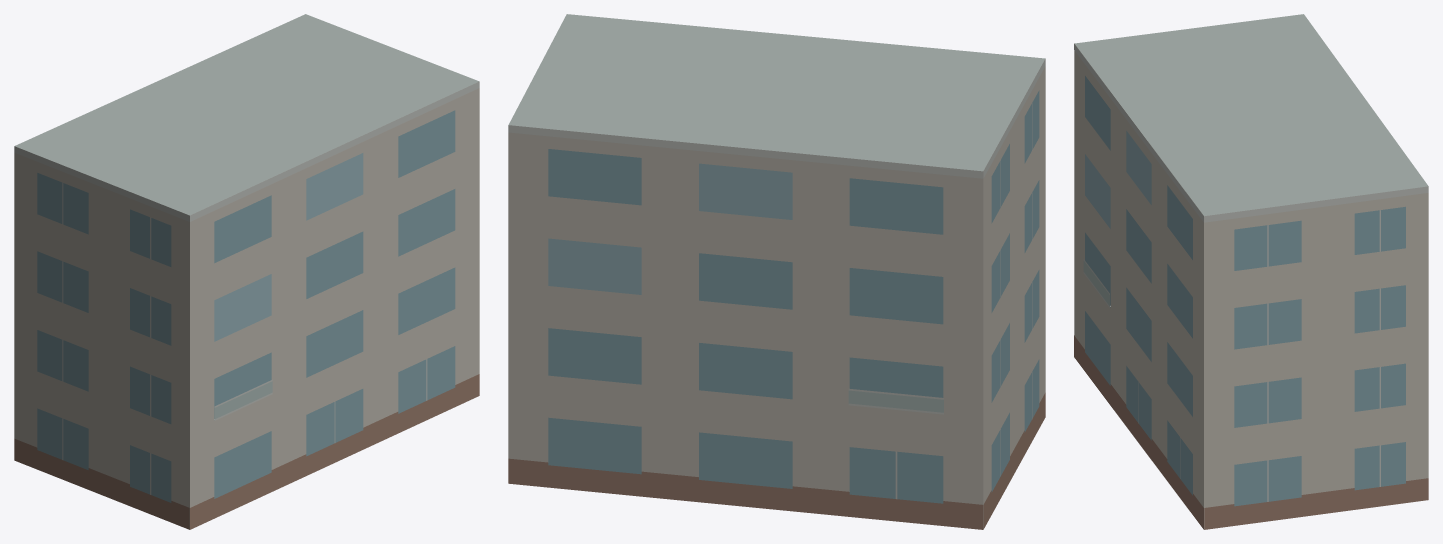
Rendered from survey-upis-32623702.glb.
3 renders of one model, left to right at view 1: azimuth 30°, elevation 25°; view 2: azimuth 150°, elevation 25°; view 3: azimuth 270°, elevation 25°, orthographic. The views are drawn at different scales.
Parts seen in each view (by area): view 1: survey-upis-32623702.tmp; view 2: survey-upis-32623702.tmp; view 3: survey-upis-32623702.tmp.
Boxes of the visible parts, box(x1,y1,x2,y2) form: survey-upis-32623702.tmp: box(14, 14, 479, 529); survey-upis-32623702.tmp: box(508, 14, 1045, 529); survey-upis-32623702.tmp: box(1074, 14, 1428, 529).
Size of the model in its own units: 16.39 by 11.85 by 12.15.
